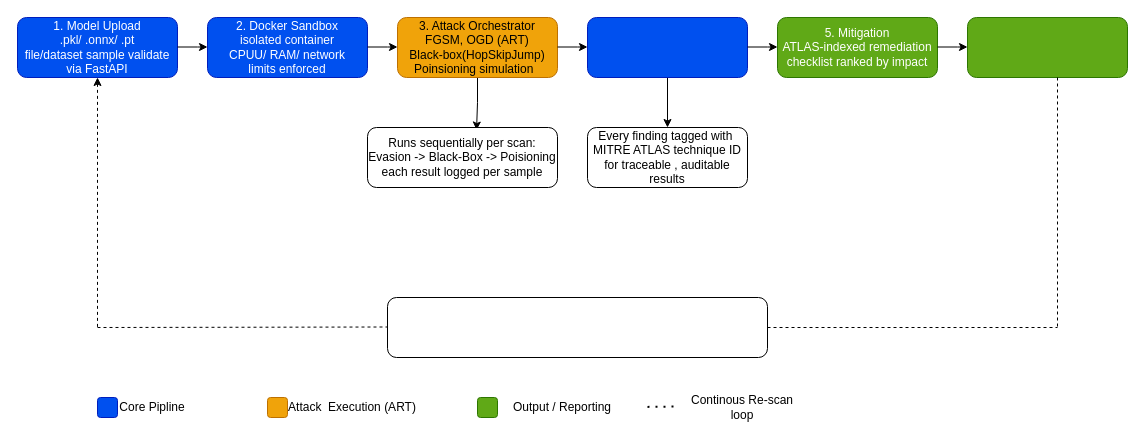
This 1145x443 diagram has some shape labels left out. Each missing label, with the centre of its shape:
4.Robustness Scoring ASR + confidence drop+ poisioning loss -> A-F grade: the point at 667,47
6. Report Dashboard React + PDF export: the point at 1047,47
Re-scan on next model version - score history tracked over time in PostgreSQL: the point at 577,327
